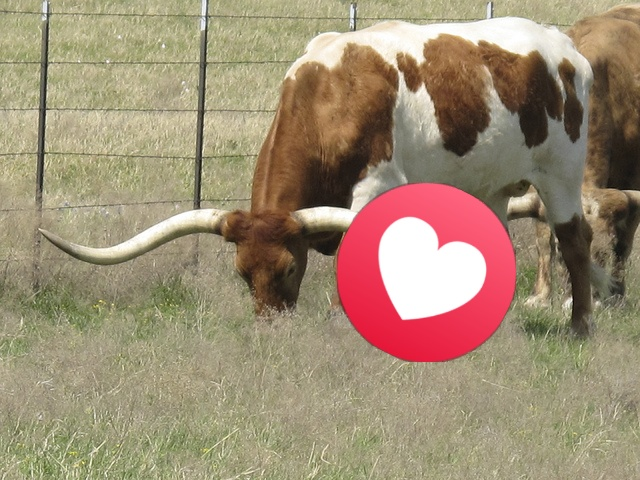love: (337, 183, 516, 362)
